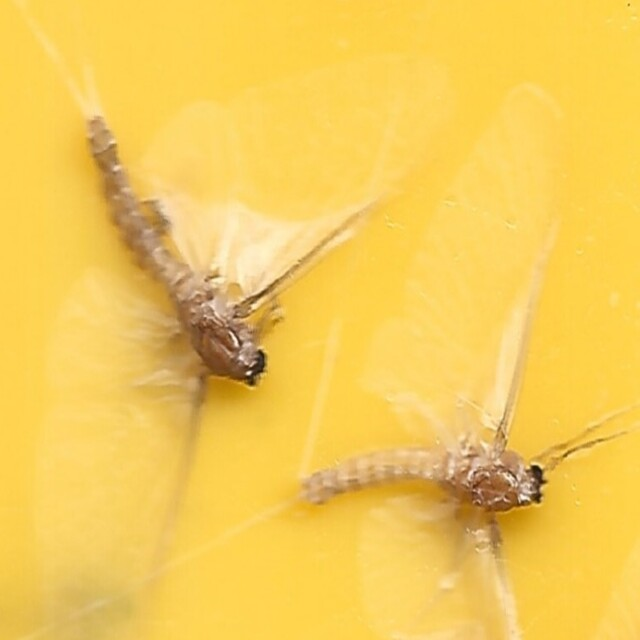Ephemeroptera: (84, 119, 275, 399), (310, 435, 556, 521)
